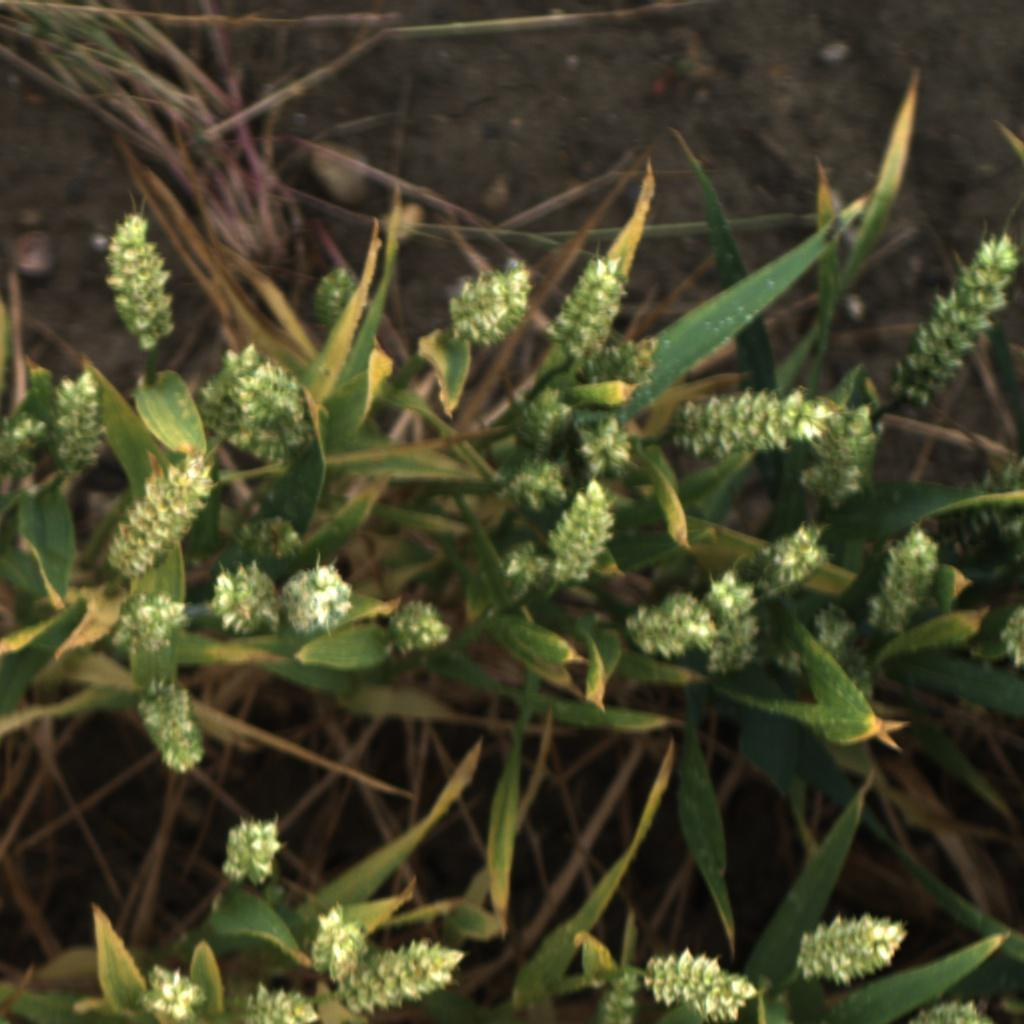0-0: (884, 231, 1024, 410), (190, 335, 325, 469), (671, 381, 847, 465), (111, 447, 217, 578), (97, 208, 186, 360), (861, 517, 954, 639), (331, 940, 472, 1018), (642, 939, 767, 1024), (793, 907, 909, 990), (570, 321, 674, 411), (810, 398, 885, 516), (132, 665, 211, 776), (622, 586, 728, 663), (553, 475, 623, 591), (547, 252, 633, 346), (443, 258, 531, 349), (50, 366, 117, 485), (113, 582, 209, 663), (700, 567, 767, 672), (959, 452, 1024, 553), (206, 560, 289, 637), (281, 564, 360, 643), (756, 517, 832, 594), (305, 901, 380, 978), (213, 815, 289, 890), (793, 596, 864, 675), (494, 454, 577, 520), (136, 957, 217, 1024), (491, 532, 555, 614), (382, 594, 459, 660), (234, 506, 312, 568), (516, 383, 578, 460), (564, 414, 638, 478), (306, 257, 367, 334), (234, 981, 327, 1024), (0, 409, 55, 477), (585, 965, 648, 1024), (908, 991, 1000, 1024), (993, 601, 1024, 679), (787, 464, 830, 491)
